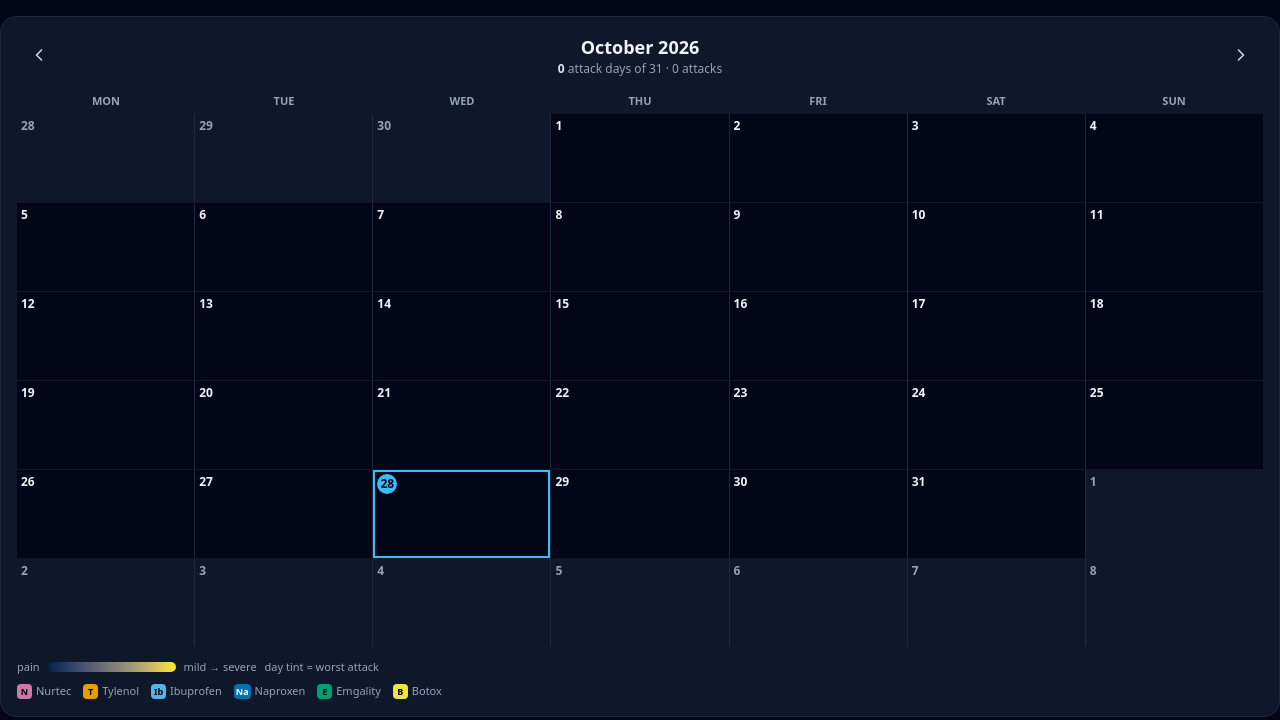
Scenario: CalendarPage configured-timezone day identity › shows the configured-zone day state and its notes in that day sheet
The width and height of the screenshot is (1280, 720).
Click the button "15": (640,336) x1=551 y1=292 x2=728 y2=380
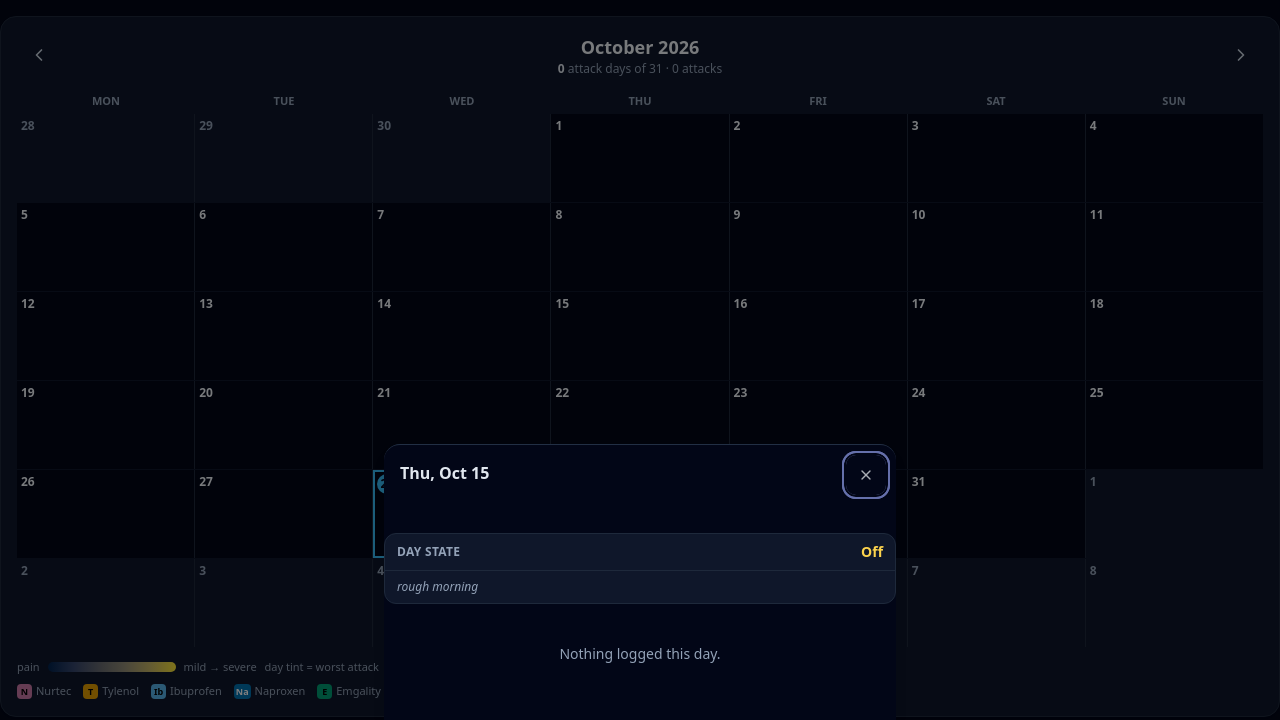
Now the text "Day state" is shown, box x1=397 y1=544 x2=460 y2=560
Now the text "Off" is shown, box x1=861 y1=542 x2=883 y2=562
Now the text "rough morning" is shown, box x1=385 y1=570 x2=895 y2=603
